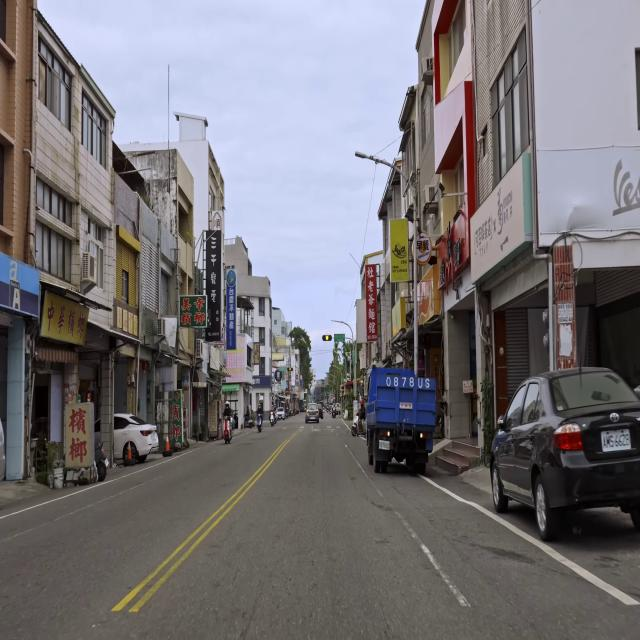yellow light: (322, 334, 332, 342), (288, 367, 294, 371)
